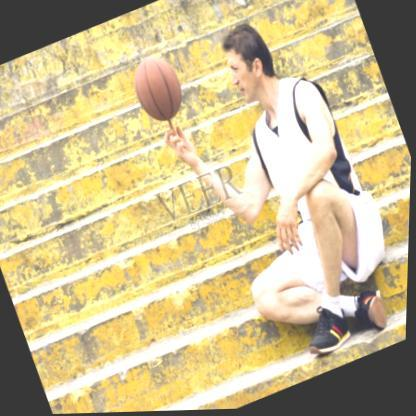basketball: (126, 51, 192, 128)
